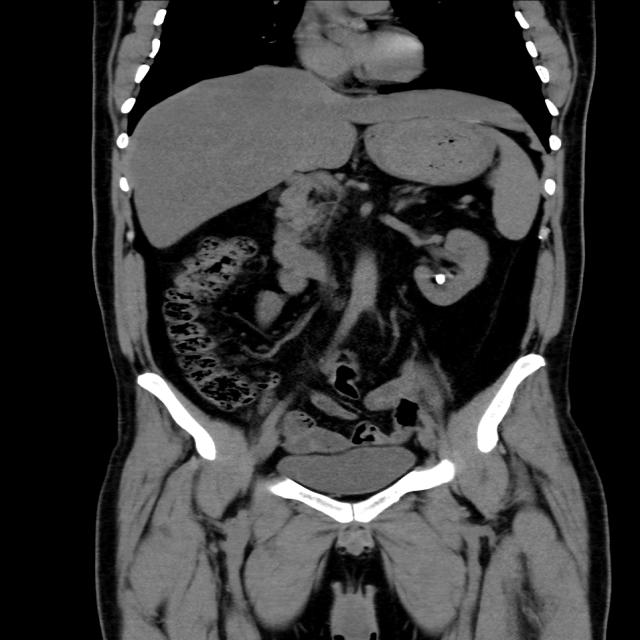kidneystone: (435, 274, 446, 285)
